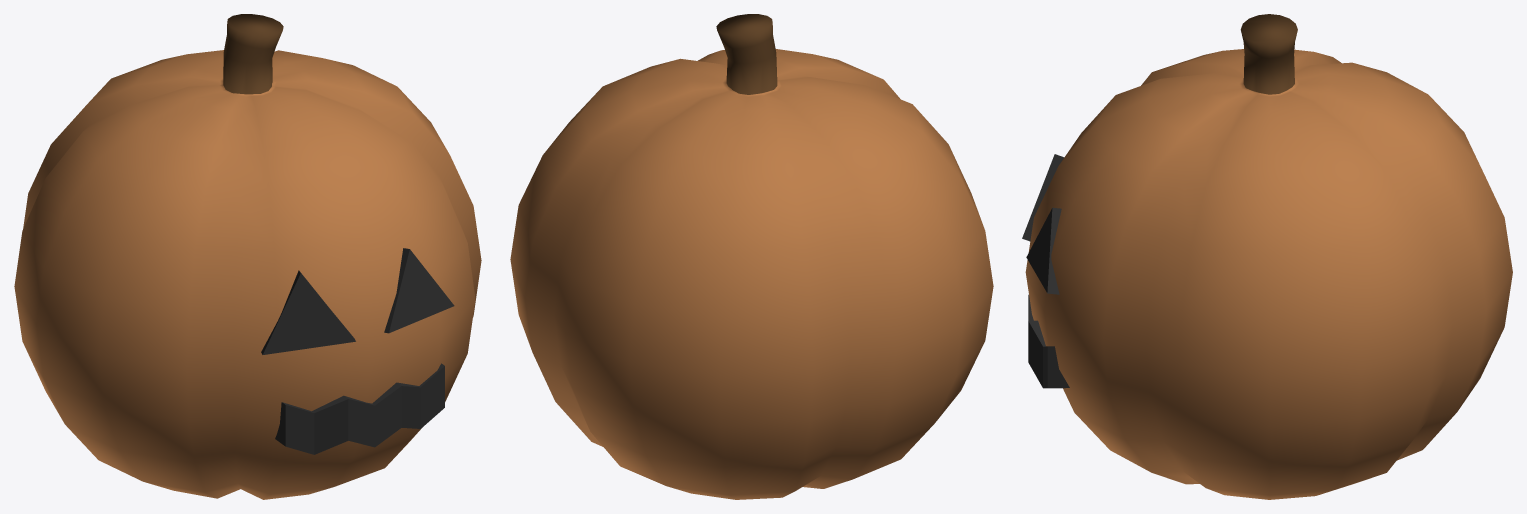
The model's file is JackOLantern.glb.
3 renders of one model, left to right at view 1: azimuth 30°, elevation 25°; view 2: azimuth 150°, elevation 25°; view 3: azimuth 270°, elevation 25°, orthographic.
Parts seen in each view (by area): view 1: Jack-O-Lantern; view 2: Jack-O-Lantern; view 3: Jack-O-Lantern.
Part boxes in pixels (x1,y1,x2,y2): Jack-O-Lantern: (14,14,481,499); Jack-O-Lantern: (510,14,993,499); Jack-O-Lantern: (1022,14,1512,499).
Size of the model in its own units: 0.4263 by 0.427 by 0.4295.
